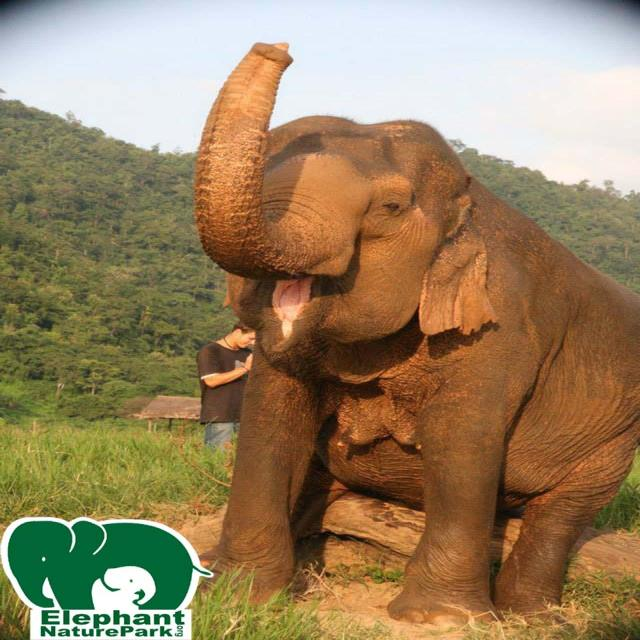Elephant: (177, 14, 640, 629)
